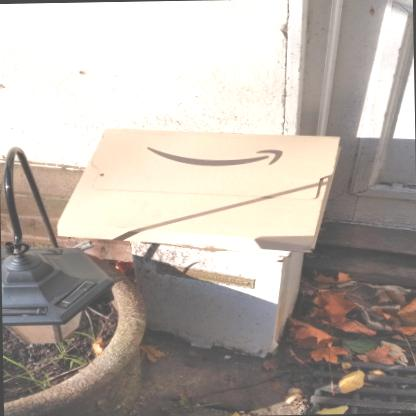box: (55, 126, 346, 239)
